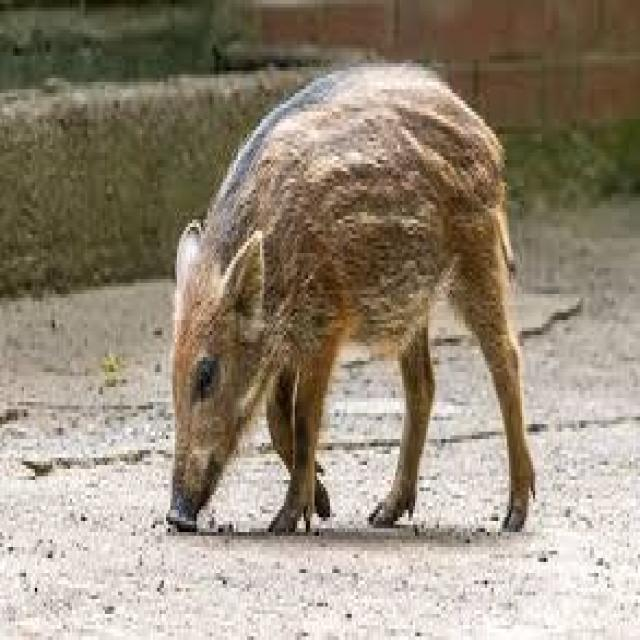boar: (131, 18, 599, 640)
